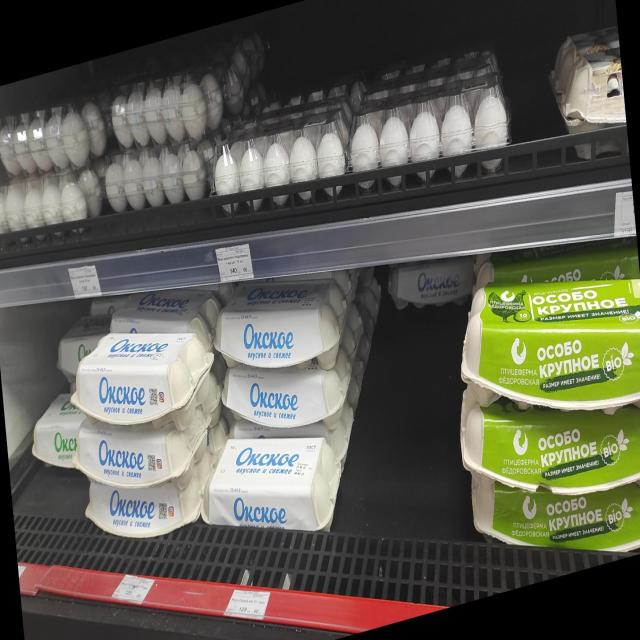organic waste: (456, 243, 640, 452), (446, 350, 640, 536), (198, 410, 344, 564), (69, 306, 216, 455), (215, 269, 342, 398), (71, 392, 207, 508), (214, 342, 348, 451), (552, 15, 628, 168), (384, 242, 474, 324), (31, 394, 82, 472), (54, 313, 104, 370)
